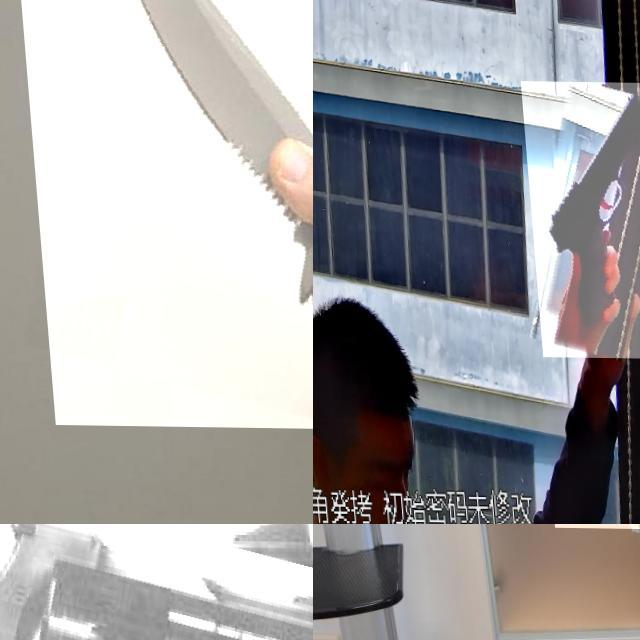-: (12, 0, 313, 430), (542, 524, 640, 561)
gun-knife-thesis - v11 Yolov5 augmented: (0, 524, 313, 640), (517, 79, 640, 357)
